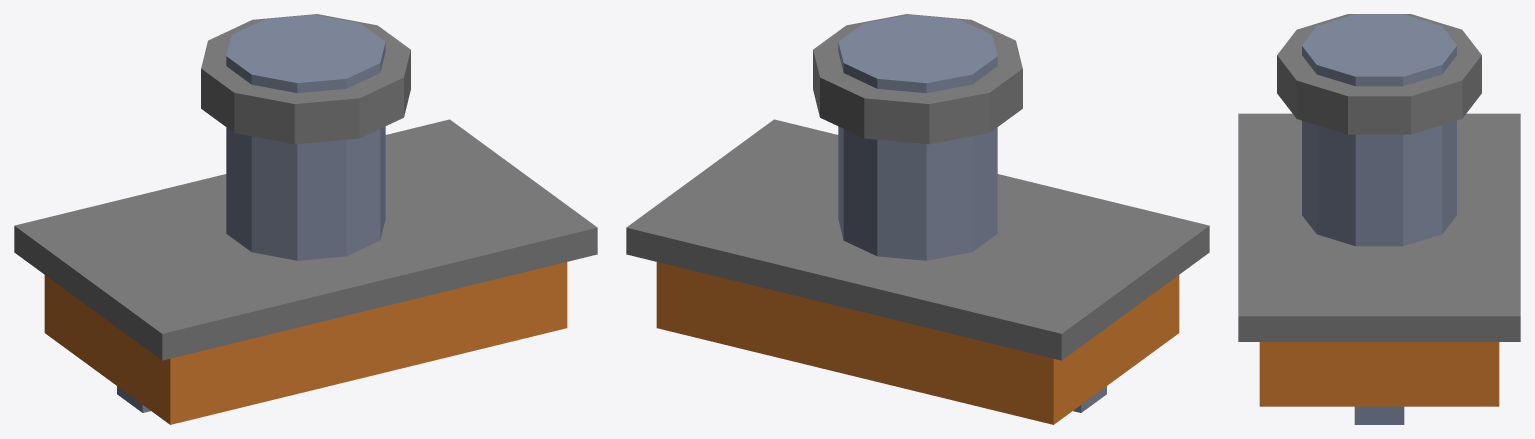
Rendered from press_belt_ram.glb.
3 renders of one model, left to right at view 1: azimuth 30°, elevation 25°; view 2: azimuth 150°, elevation 25°; view 3: azimuth 270°, elevation 25°, orthographic. The views are drawn at different scales.
Parts seen in each view (by area): view 1: press_belt_ram; view 2: press_belt_ram; view 3: press_belt_ram.
Part boxes in pixels (x1,y1,x2,y2): press_belt_ram: [14, 14, 597, 424]; press_belt_ram: [626, 14, 1209, 424]; press_belt_ram: [1238, 14, 1520, 424].
Bounding box in the file's own units: 0.68 × 0.465 × 0.4.
